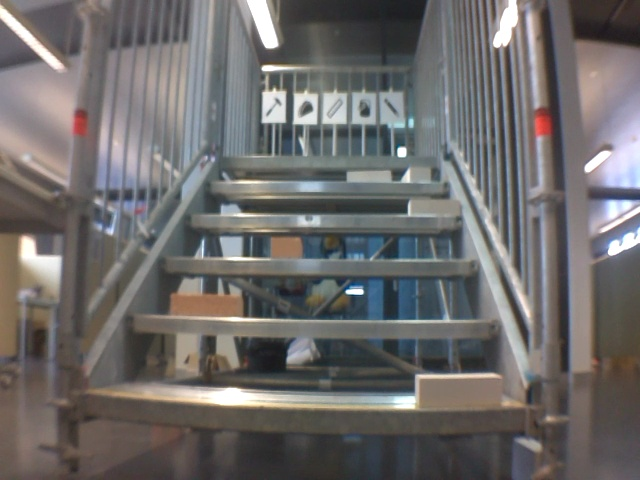brick: (416, 373, 500, 409), (170, 294, 243, 316), (408, 200, 459, 214), (271, 237, 302, 258), (347, 171, 390, 181), (402, 167, 430, 182)
bucket: (356, 97, 374, 119)
edge: (85, 393, 527, 434), (128, 314, 503, 338), (161, 259, 478, 275), (187, 214, 464, 227), (201, 181, 452, 193), (219, 156, 439, 169)
hammer: (262, 95, 283, 118)
pencil: (382, 96, 401, 119)
ruler: (325, 96, 345, 121)
stairs: (56, 1, 572, 476)
steps: (82, 151, 530, 437)
taco: (296, 98, 314, 121)
